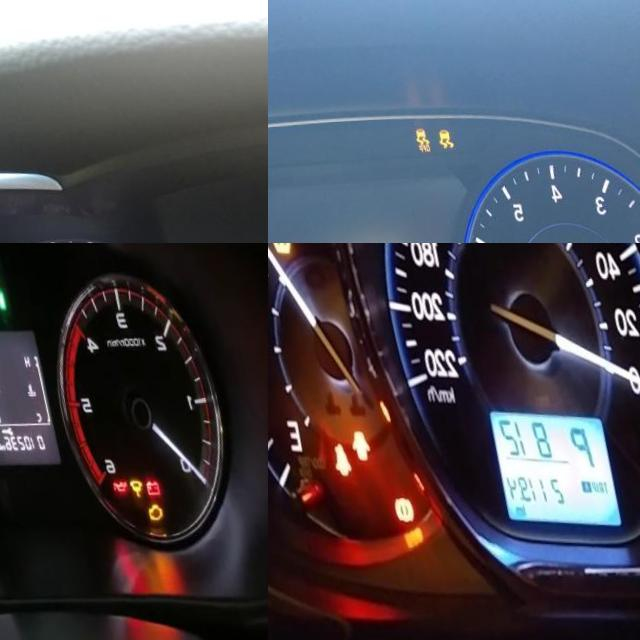Seat Belt: (312, 445, 334, 479)
